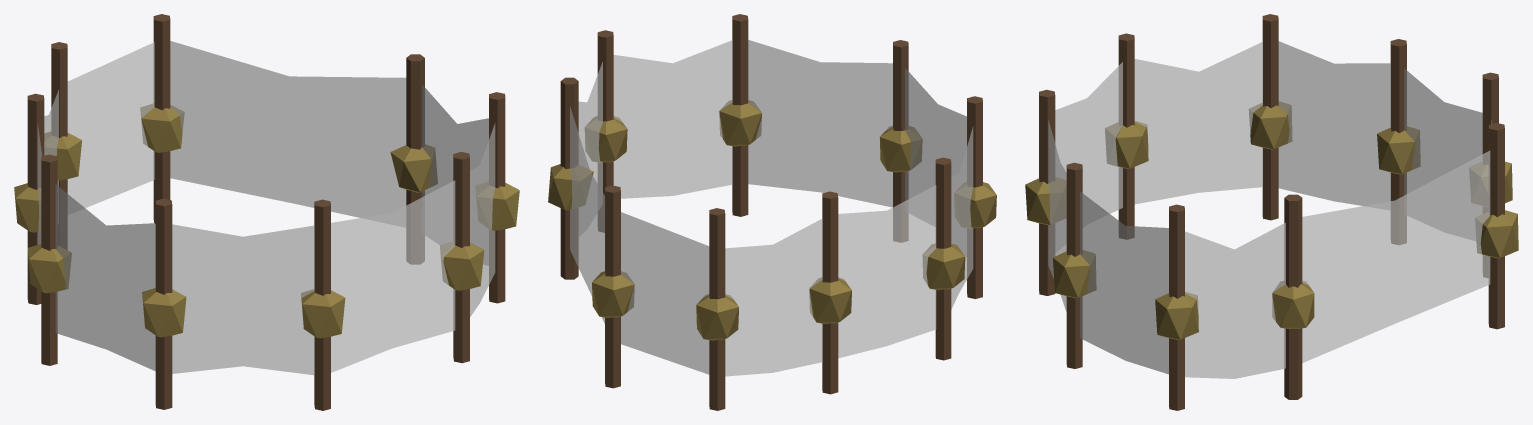
File: FishNet.glb
3 renders of one model, left to right at view 1: azimuth 30°, elevation 25°; view 2: azimuth 150°, elevation 25°; view 3: azimuth 270°, elevation 25°, orthographic. The views are drawn at different scales.
Parts seen in each view (by area): view 1: Net, Sticks, Floats; view 2: Net, Sticks, Floats; view 3: Net, Sticks, Floats.
Part boxes in pixels (x1,y1,x2,y2): Net: (37, 41, 495, 375); Sticks: (27, 14, 505, 410); Floats: (14, 104, 519, 338); Net: (570, 40, 973, 376); Sticks: (560, 14, 982, 410); Floats: (548, 100, 996, 340); Net: (1048, 41, 1492, 378); Sticks: (1039, 14, 1504, 410); Floats: (1025, 101, 1518, 340).
Size of the model in its own units: 1.85 by 0.8179 by 1.84.
